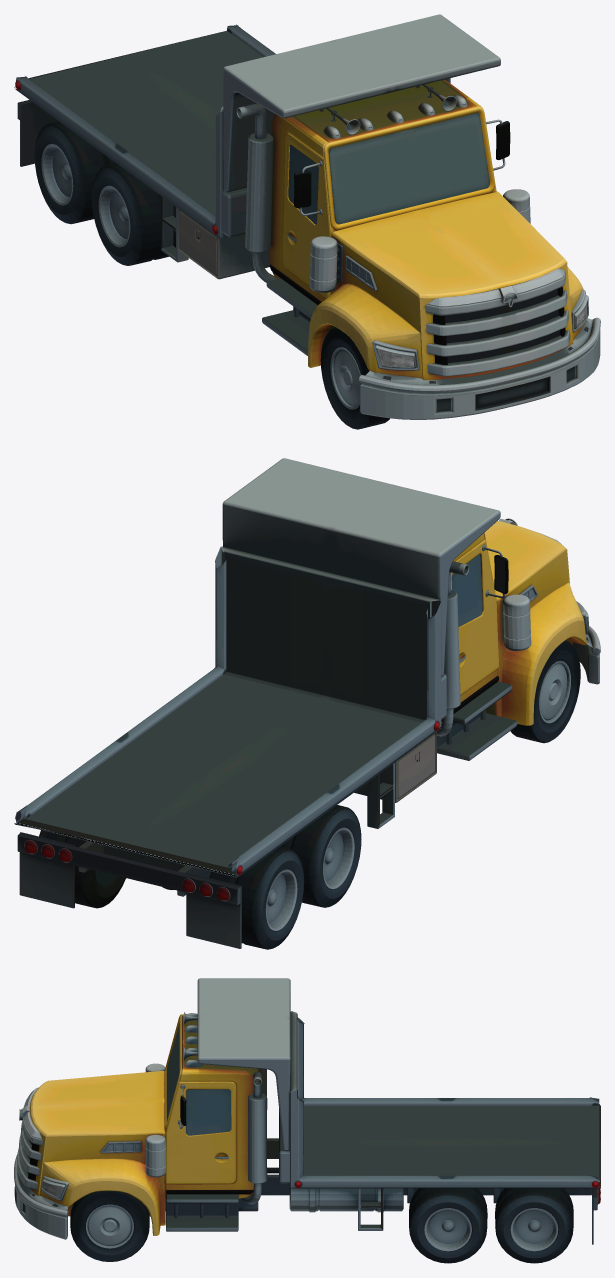
File: truck.fbx
3 views of the same model, one above another, from view 1: azimuth 30°, elevation 25°; view 2: azimuth 150°, elevation 25°; view 3: azimuth 270°, elevation 25° (orthographic). The views are drawn at different scales.
Visible parts, largest first — view 1: chassis, rr_midle_tire, rr_tire, fr_tire; view 2: chassis, rr_tire, rr_midle_tire, fr_tire, rl_tire; view 3: chassis, rl_tire, rl_midle_tire, fl_tire.
Part boxes in pixels (box(x1,y1,x2,y2)): chassis: box(14, 14, 600, 419); rr_midle_tire: box(91, 163, 175, 265); rr_tire: box(34, 121, 115, 224); fr_tire: box(320, 327, 389, 429); chassis: box(14, 458, 600, 948); rr_tire: box(209, 846, 304, 949); rr_midle_tire: box(280, 805, 361, 907); fr_tire: box(510, 641, 580, 743); rl_tire: box(39, 830, 125, 908); chassis: box(14, 978, 600, 1244); rl_tire: box(495, 1188, 573, 1263); rl_midle_tire: box(409, 1188, 487, 1263); fl_tire: box(70, 1191, 149, 1261).
Size of the model in its own units: 2.85 by 3.07 by 7.92.
Materials: 1 (1 with a texture image).
